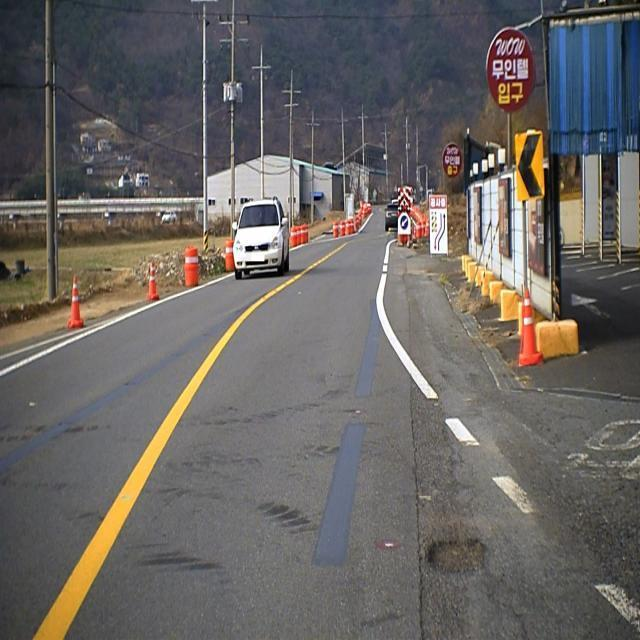pothole: (418, 515, 493, 589)
